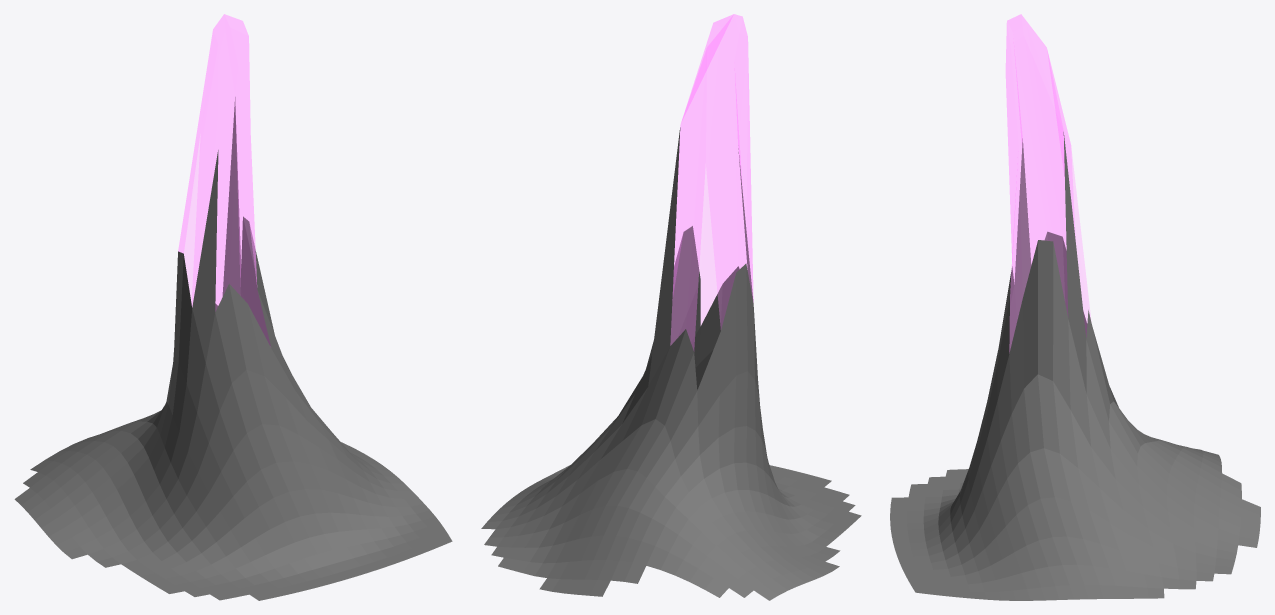
Rendered from CaveThing5.fbx.
3 renders of one model, left to right at view 1: azimuth 30°, elevation 25°; view 2: azimuth 150°, elevation 25°; view 3: azimuth 270°, elevation 25°, orthographic. The views are drawn at different scales.
Visible parts, largest first — view 1: CaveThing5; view 2: CaveThing5; view 3: CaveThing5.
Part boxes in pixels (bbox=[...]): CaveThing5: bbox=[14, 14, 452, 600]; CaveThing5: bbox=[481, 14, 861, 600]; CaveThing5: bbox=[890, 14, 1260, 600].
Size of the model in its own units: 120 by 186 by 125.
